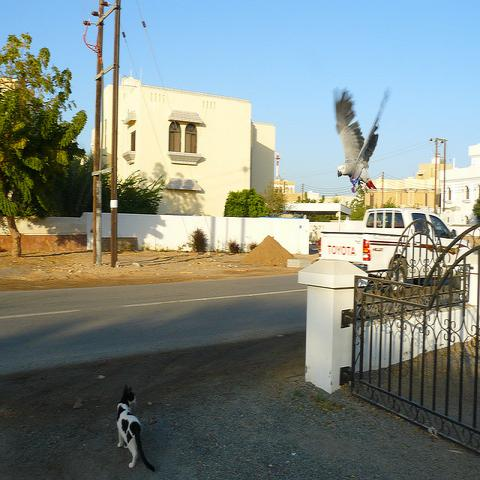truck: (318, 208, 475, 288)
